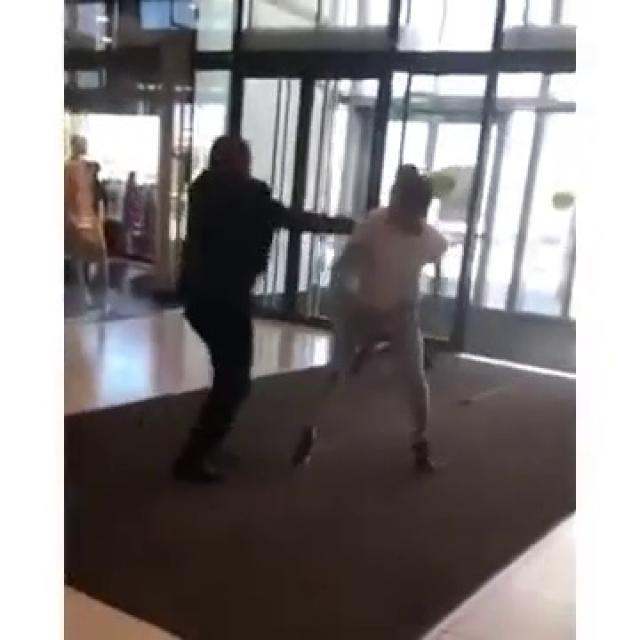Violence: (166, 136, 444, 478)
